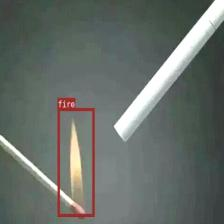fire: (57, 107, 94, 216)
